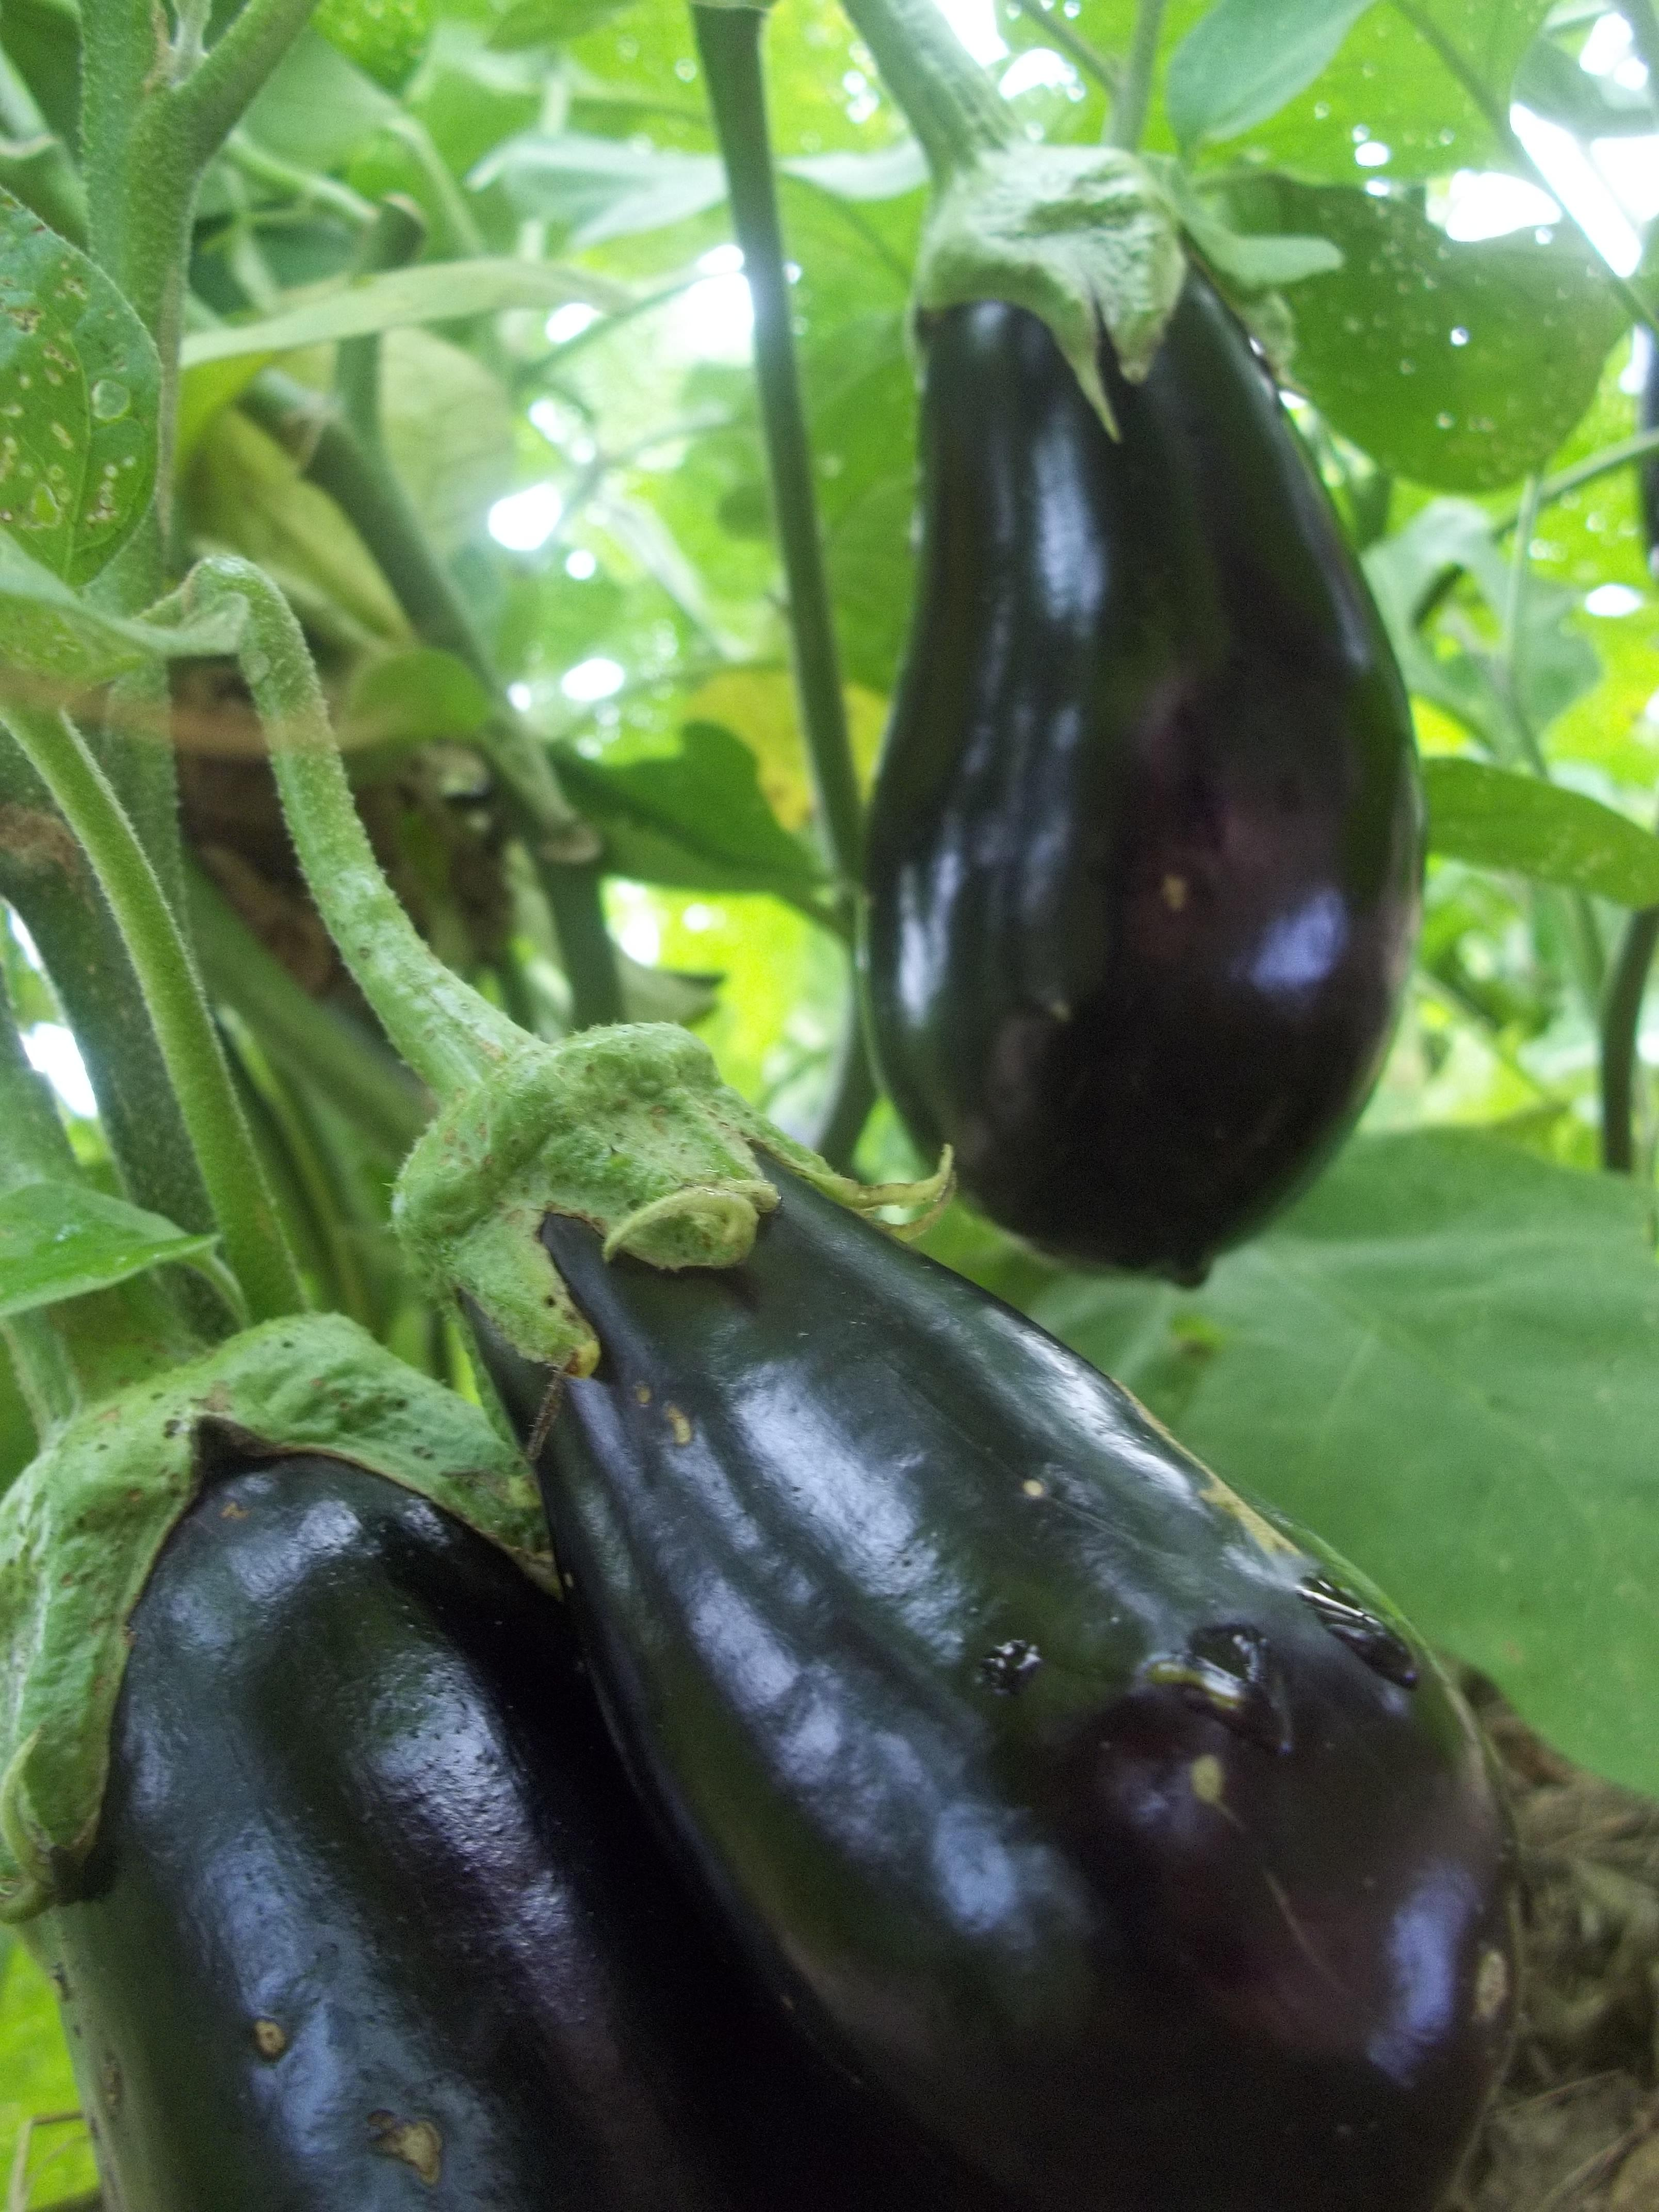eggplant: (444, 1052, 1525, 2207)
